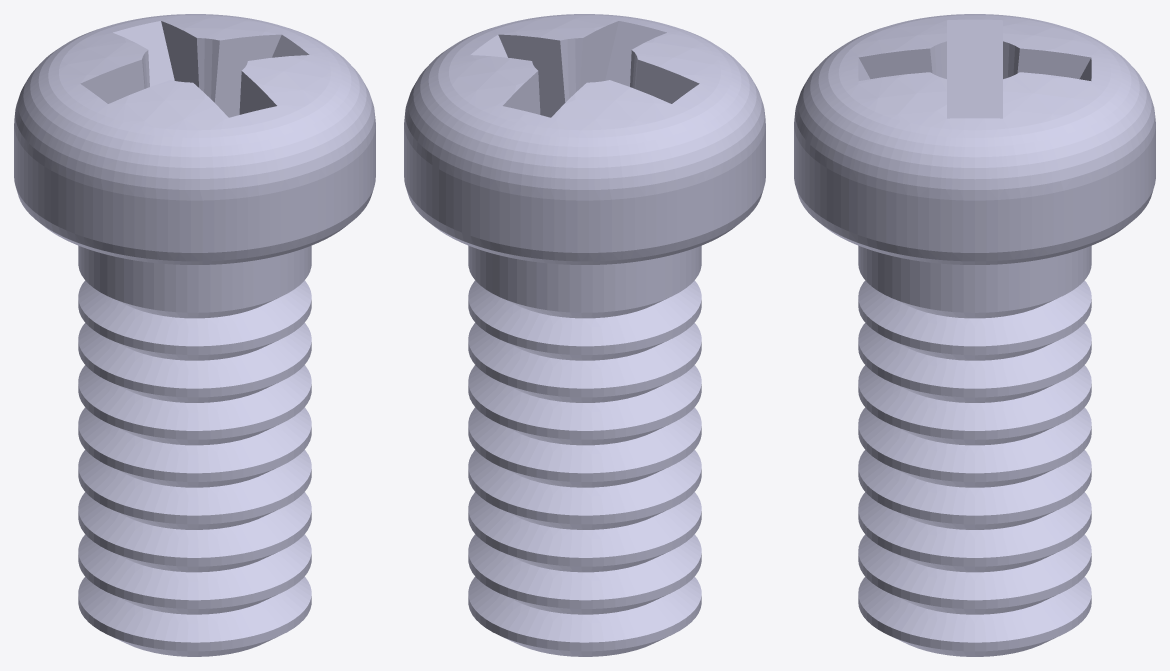
File: Camera_servo_mount_screw.dae
3 renders of one model, left to right at view 1: azimuth 30°, elevation 25°; view 2: azimuth 150°, elevation 25°; view 3: azimuth 270°, elevation 25°, orthographic.
Parts seen in each view (by area): view 1: node0; view 2: node0; view 3: node0.
Boxes of the visible parts, x1=… form: node0: x1=14, y1=14, x2=375, y2=656; node0: x1=404, y1=14, x2=765, y2=656; node0: x1=794, y1=14, x2=1155, y2=656.
Size of the model in its own units: 0.0031 by 0.0031 by 0.00528.
